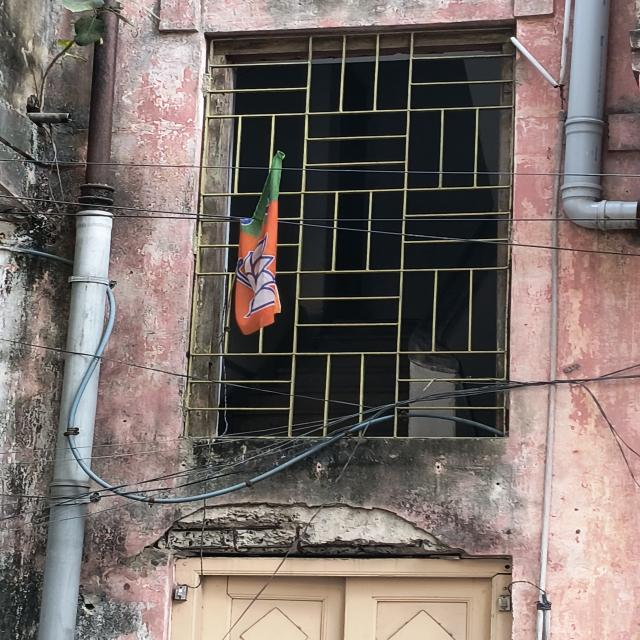Corrosion: (65, 0, 142, 227)
Moss growth due to damping: (20, 0, 177, 637)
Spalling: (149, 497, 517, 561)
